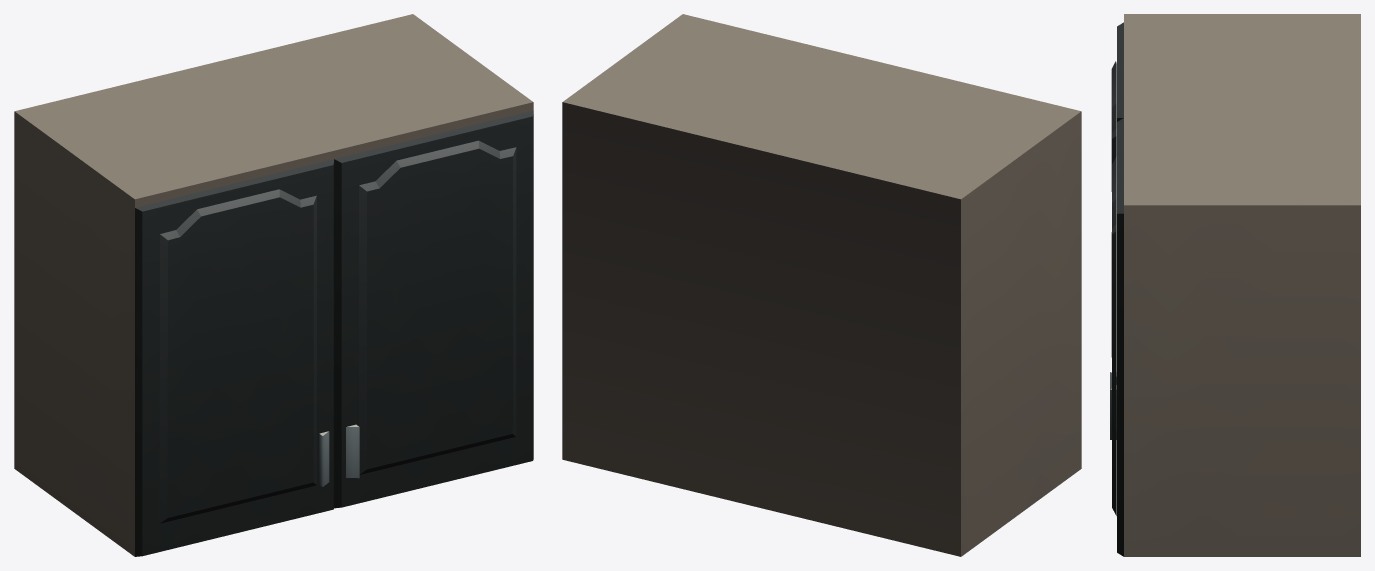
Rendered from TSP_Kitchen_Cabinet_Top_01A.fbx.
3 views of the same model, side by side, from view 1: azimuth 30°, elevation 25°; view 2: azimuth 150°, elevation 25°; view 3: azimuth 270°, elevation 25° (orthographic).
Parts seen in each view (by area): view 1: TSP_Kitchen_Cabinet_Top_01A, TSP_Kitchen_Cabinet_Top_01A_Door.R, TSP_Kitchen_Cabinet_Top_01A_Door.L; view 2: TSP_Kitchen_Cabinet_Top_01A; view 3: TSP_Kitchen_Cabinet_Top_01A, TSP_Kitchen_Cabinet_Top_01A_Door.R, TSP_Kitchen_Cabinet_Top_01A_Door.L.
Boxes of the visible parts, left/top/right/bottom form: TSP_Kitchen_Cabinet_Top_01A: left=14, top=14, right=533, bottom=556; TSP_Kitchen_Cabinet_Top_01A_Door.R: left=334, top=110, right=533, bottom=508; TSP_Kitchen_Cabinet_Top_01A_Door.L: left=135, top=159, right=334, bottom=556; TSP_Kitchen_Cabinet_Top_01A: left=562, top=14, right=1081, bottom=556; TSP_Kitchen_Cabinet_Top_01A: left=1124, top=14, right=1360, bottom=556; TSP_Kitchen_Cabinet_Top_01A_Door.R: left=1110, top=118, right=1123, bottom=556; TSP_Kitchen_Cabinet_Top_01A_Door.L: left=1110, top=22, right=1123, bottom=389.
Size of the model in its own units: 1 by 0.8572 by 0.5538.
